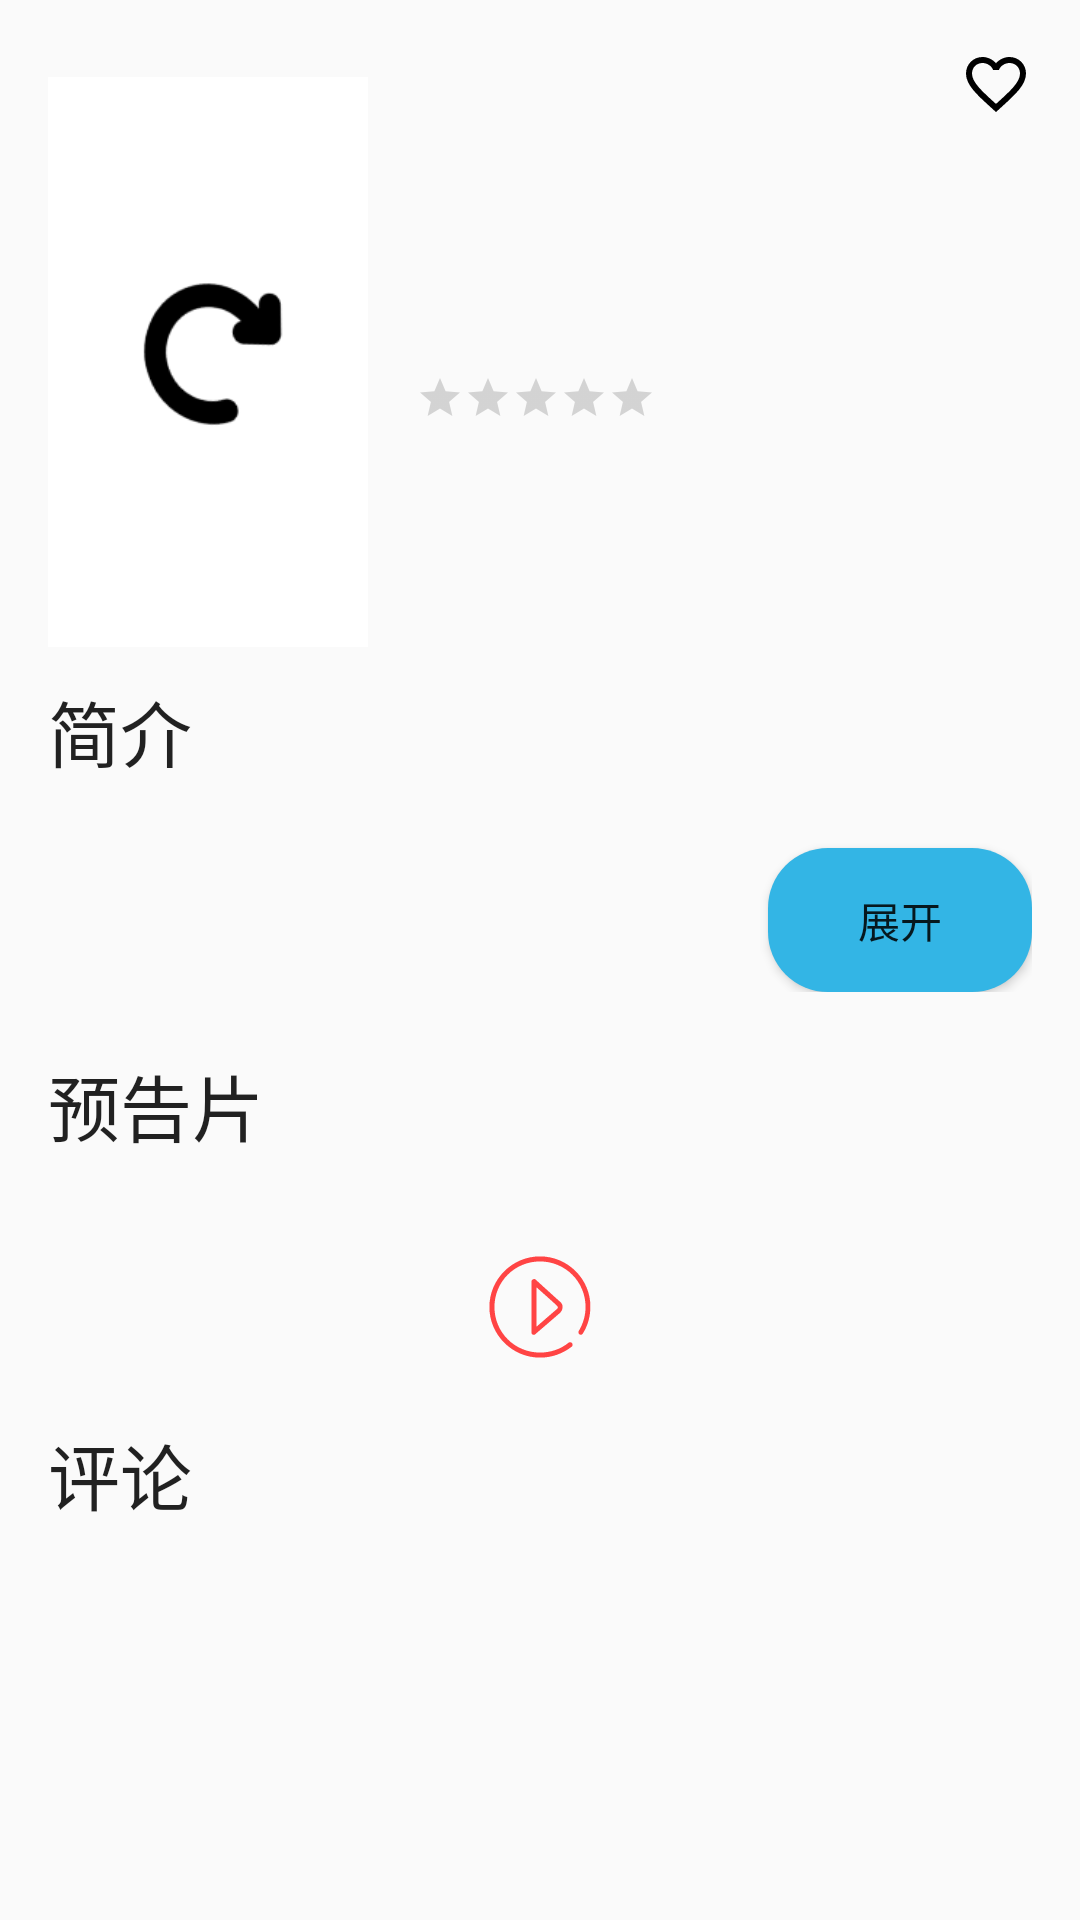

Named icons in this screenshot (1080*1920) and their centers, (x,y):
Favorite or not: (996,84)
videos: (540,1307)
